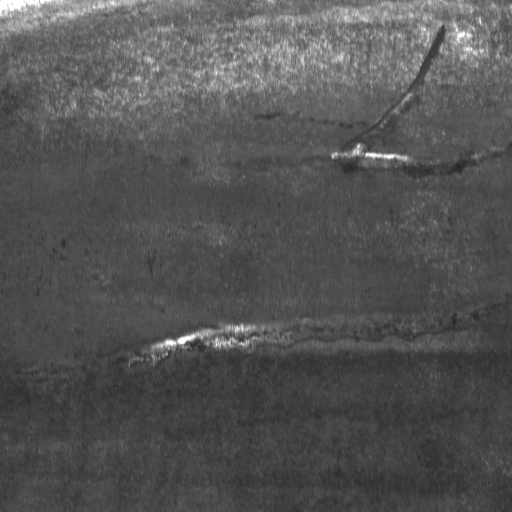qiaopi: (96, 293, 508, 374), (326, 19, 512, 180)
